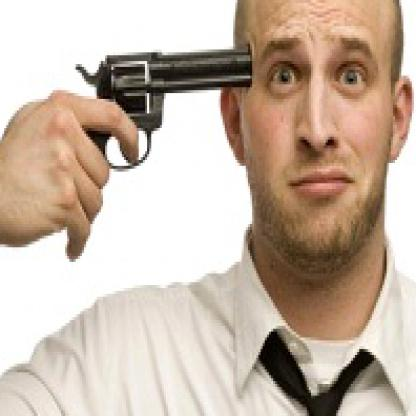gun: (68, 35, 258, 253)
